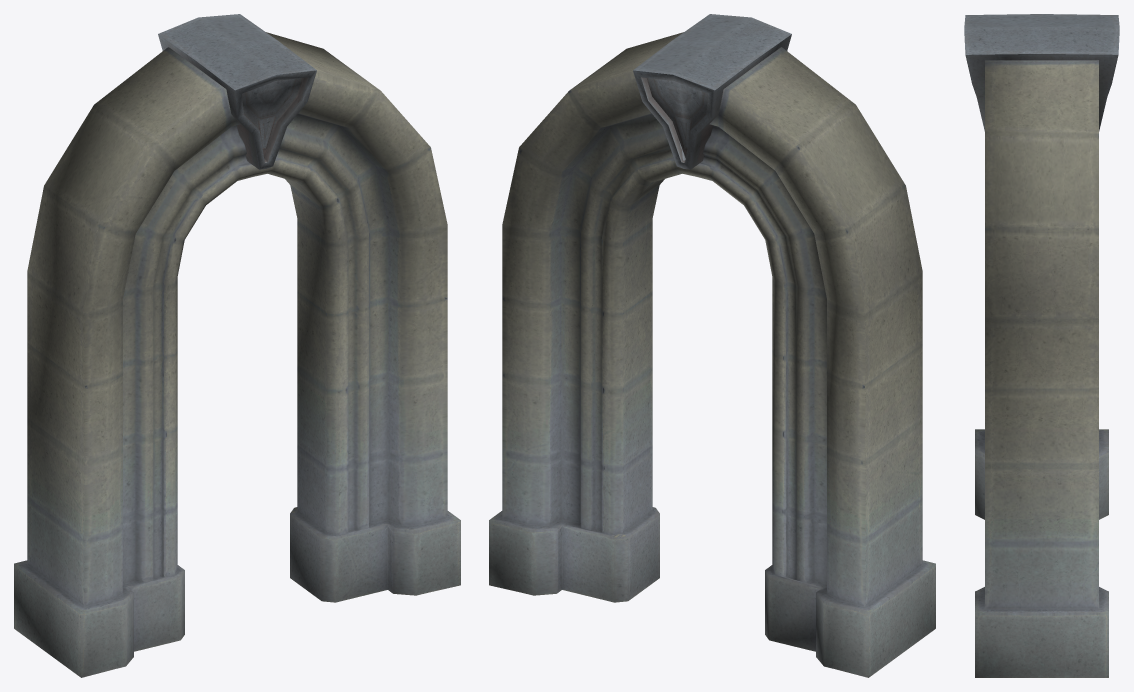
Rendered from AD_Arch_A_01.fbx.
3 renders of one model, left to right at view 1: azimuth 30°, elevation 25°; view 2: azimuth 150°, elevation 25°; view 3: azimuth 270°, elevation 25°, orthographic.
Parts seen in each view (by area): view 1: AD_Arch_A_01; view 2: AD_Arch_A_01; view 3: AD_Arch_A_01.
Boxes of the visible parts, <box> form: AD_Arch_A_01: <box>14,14,460,677</box>; AD_Arch_A_01: <box>489,14,935,677</box>; AD_Arch_A_01: <box>964,14,1119,677</box>.
Size of the model in its own units: 924 by 1307 by 330.
Materials: 1 (1 with a texture image).
